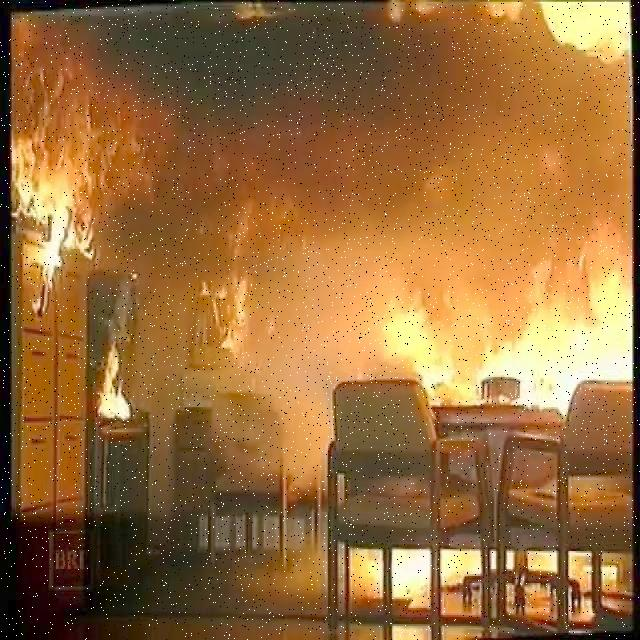fire: (378, 282, 640, 407), (12, 67, 106, 322), (188, 278, 310, 375), (86, 339, 134, 429)
